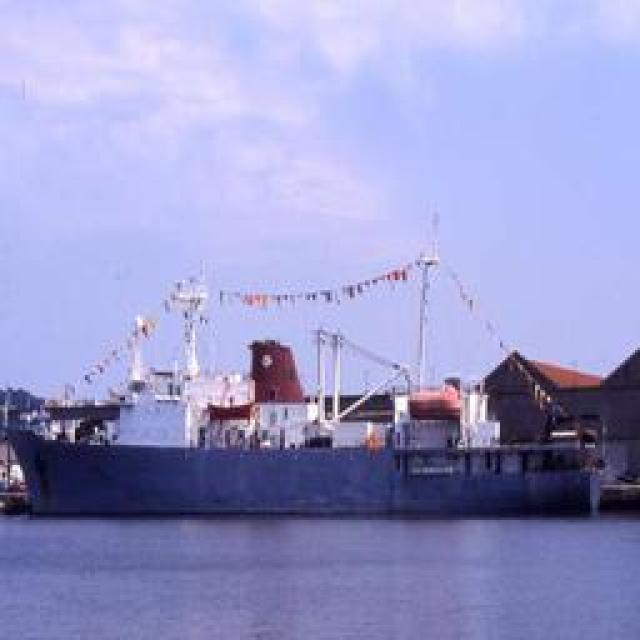ship2: (4, 210, 602, 517)
